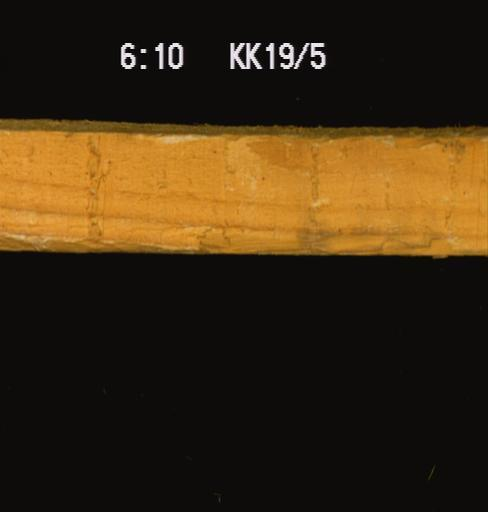wave: (0, 225, 196, 251)
